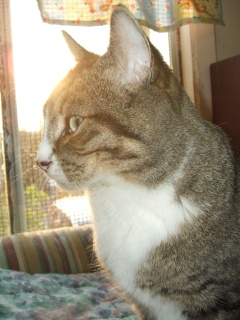Cat: (4, 2, 239, 319)
